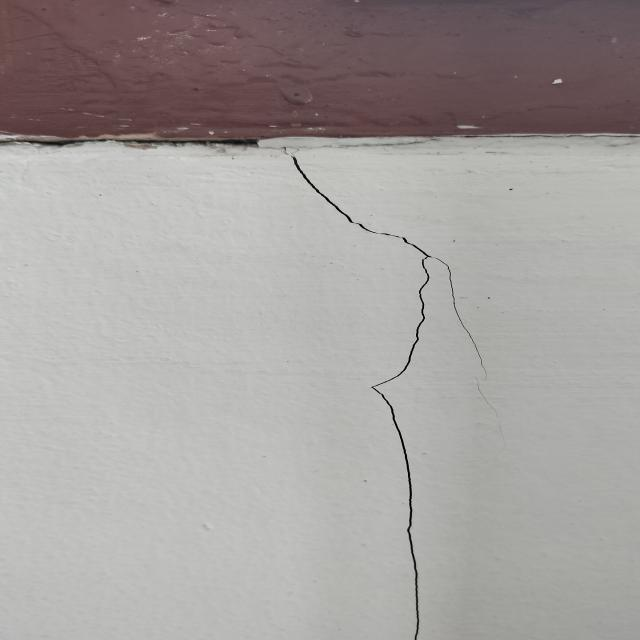Crack: (282, 151, 499, 640)
